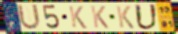5: (42, 4, 61, 30)
K: (90, 5, 111, 30), (115, 5, 136, 30), (68, 5, 89, 30)
U: (16, 3, 42, 31), (134, 4, 160, 31)
